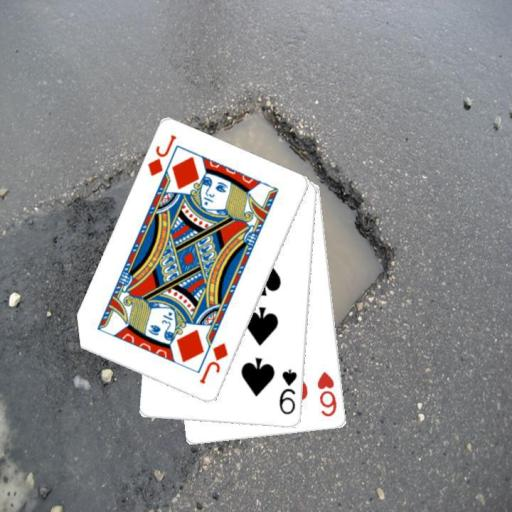6H: (315, 369, 339, 419)
9S: (276, 366, 299, 417)
JD: (145, 132, 179, 179), (196, 340, 230, 386)
